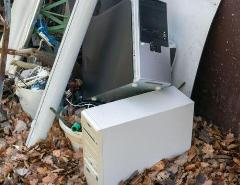electronic: (76, 81, 234, 185), (79, 1, 187, 97)
